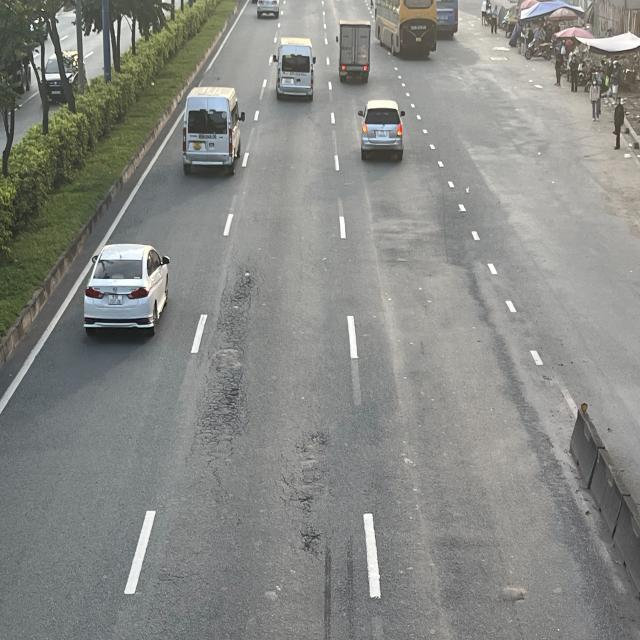car: (85, 243, 174, 334), (356, 101, 404, 163)
coach: (368, 0, 436, 56), (435, 0, 460, 36)
truck: (337, 17, 371, 80)
van: (181, 88, 244, 176), (273, 36, 316, 101)
